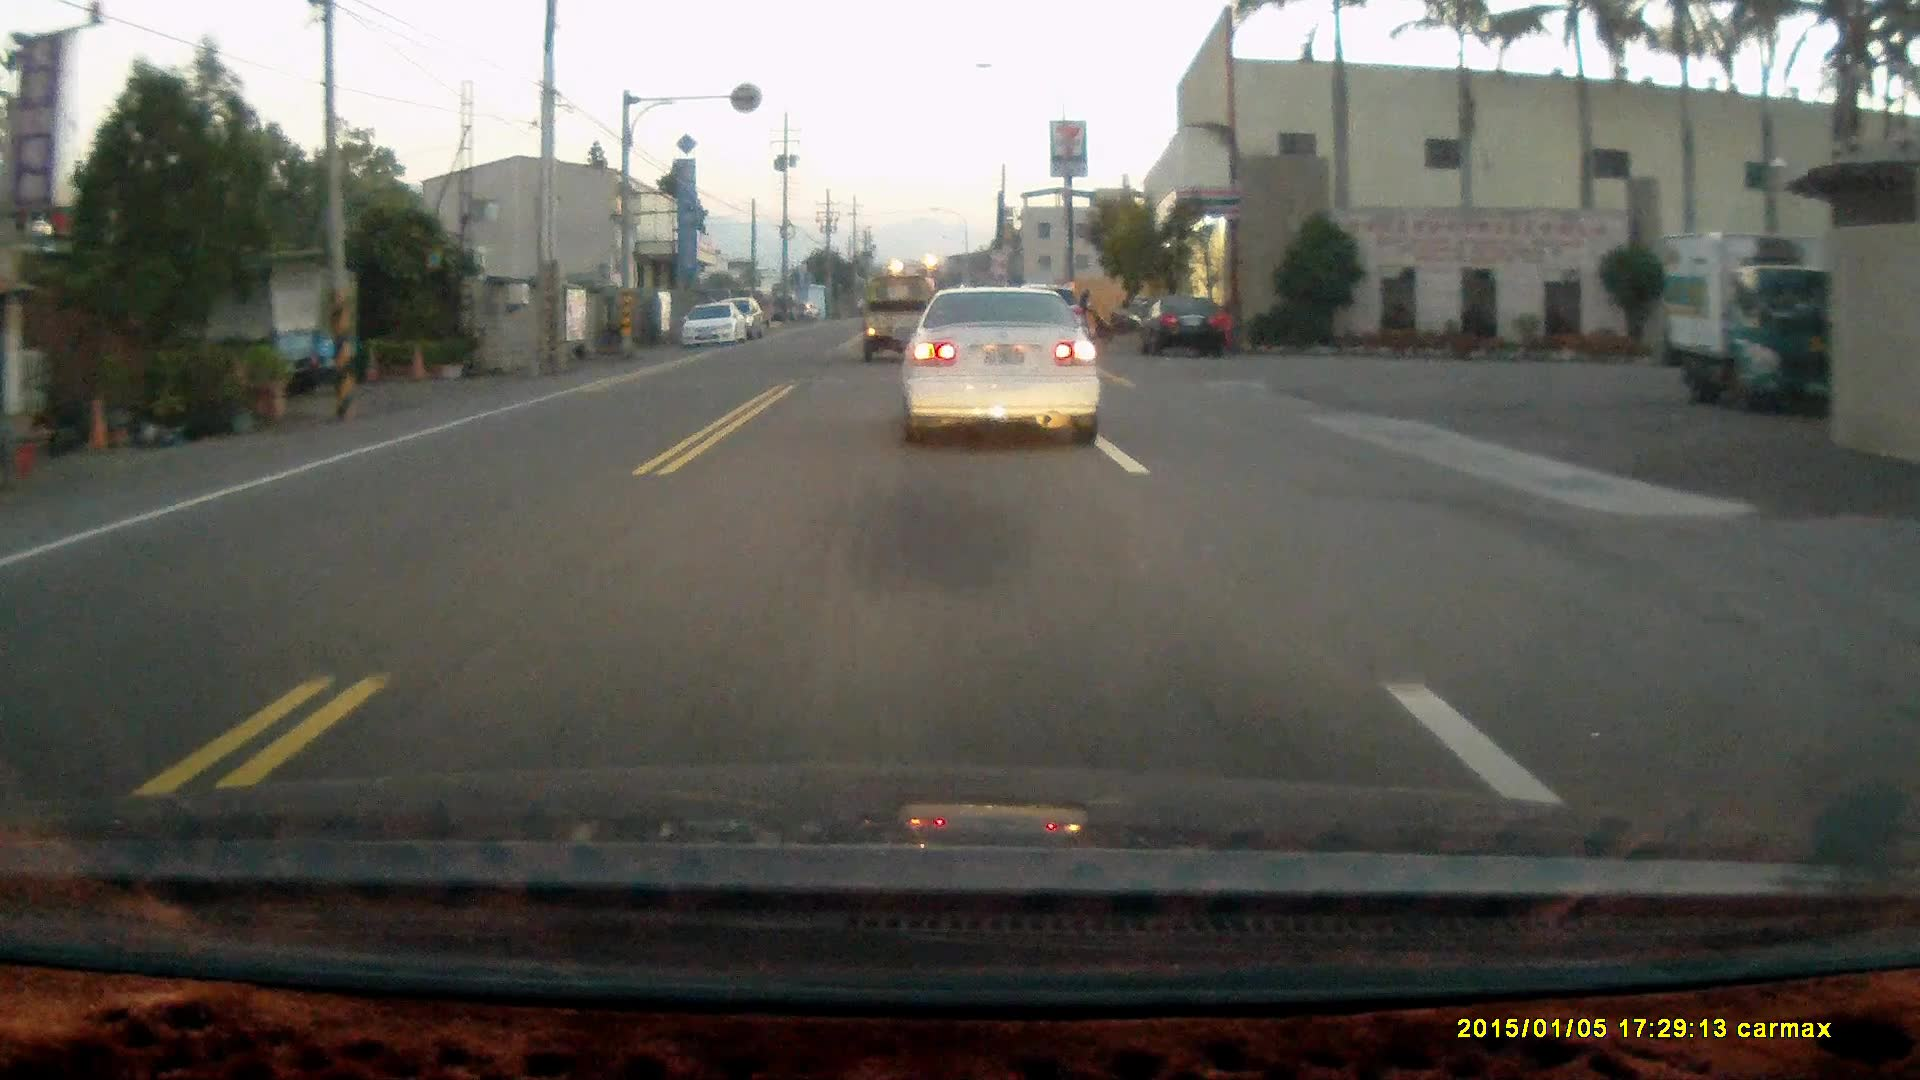rider: (1061, 288, 1113, 345)
vehicle: (902, 279, 1101, 452), (1662, 236, 1840, 416), (858, 272, 932, 359), (1132, 295, 1229, 359), (676, 300, 748, 349)
